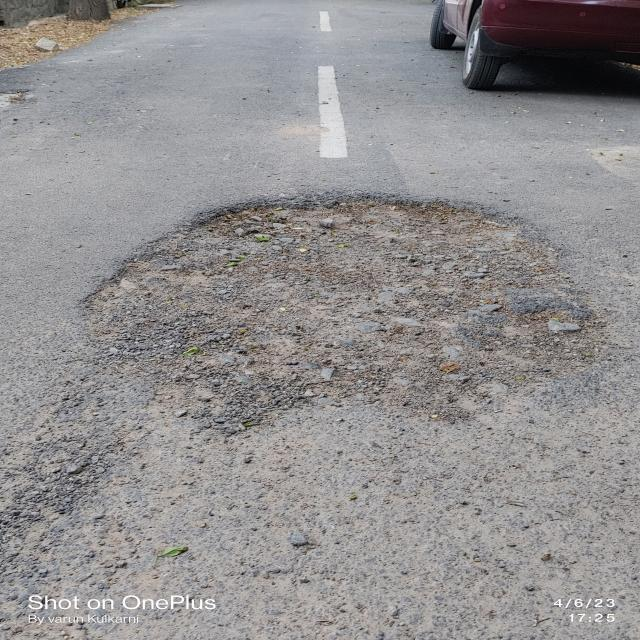potholes: (64, 194, 615, 418)
